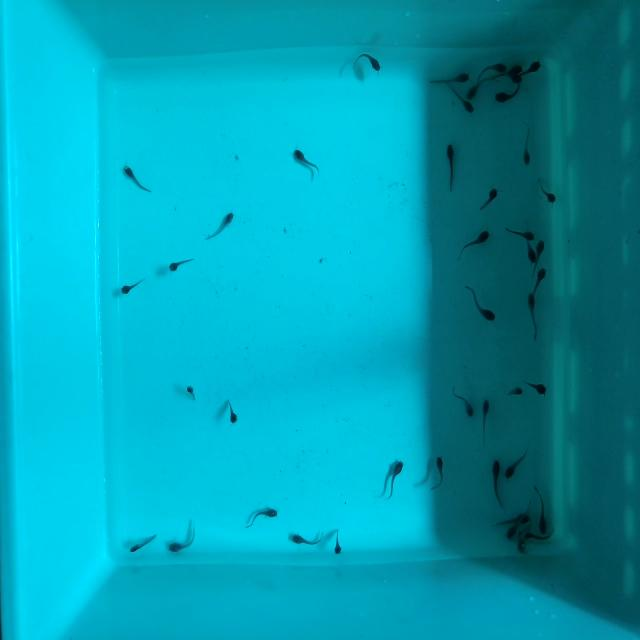lele: (461, 280, 497, 322), (503, 442, 537, 484), (168, 518, 206, 554), (452, 230, 491, 260), (204, 210, 238, 244), (289, 144, 323, 178), (122, 165, 156, 198), (384, 456, 408, 500), (446, 82, 476, 116), (451, 387, 480, 420), (128, 528, 161, 554), (352, 48, 384, 74), (532, 483, 548, 534), (489, 457, 505, 508), (246, 504, 279, 528), (465, 73, 491, 101), (491, 61, 524, 83), (534, 176, 558, 206), (429, 73, 472, 89), (524, 290, 538, 339), (528, 240, 546, 278), (476, 186, 500, 214), (478, 398, 492, 446), (119, 277, 148, 298), (168, 253, 198, 273), (446, 142, 458, 192), (522, 377, 550, 398), (493, 84, 521, 105), (503, 226, 537, 243), (530, 266, 548, 298), (521, 122, 533, 166), (433, 455, 446, 492), (522, 529, 556, 543), (494, 512, 528, 526), (520, 58, 542, 77), (291, 534, 322, 547), (477, 60, 508, 73), (226, 398, 241, 424), (525, 241, 538, 263), (507, 71, 526, 86), (333, 529, 343, 557), (507, 384, 526, 398), (184, 384, 198, 402), (518, 532, 526, 554), (505, 527, 517, 540)
